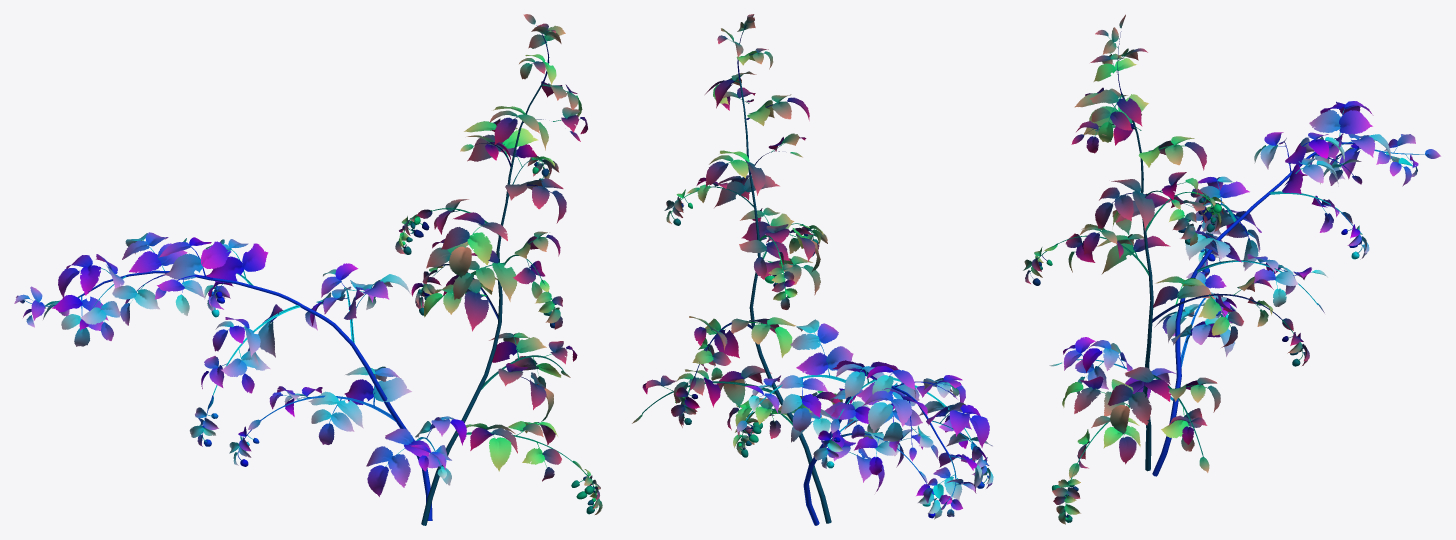
File: Raspberry_wf0oefeja_Raw_wf0oefeja_VarF_LOD0.fbx
3 renders of one model, left to right at view 1: azimuth 30°, elevation 25°; view 2: azimuth 150°, elevation 25°; view 3: azimuth 270°, elevation 25°, orthographic. The views are drawn at different scales.
Parts seen in each view (by area): view 1: _reka_VarF_High; view 2: _reka_VarF_High; view 3: _reka_VarF_High.
Part boxes in pixels (x1=…): _reka_VarF_High: x1=14, y1=14, x2=602, y2=525; _reka_VarF_High: x1=632, y1=14, x2=993, y2=525; _reka_VarF_High: x1=1023, y1=14, x2=1440, y2=524.
Bounding box in the file's own units: 100 × 104 × 79.15.
